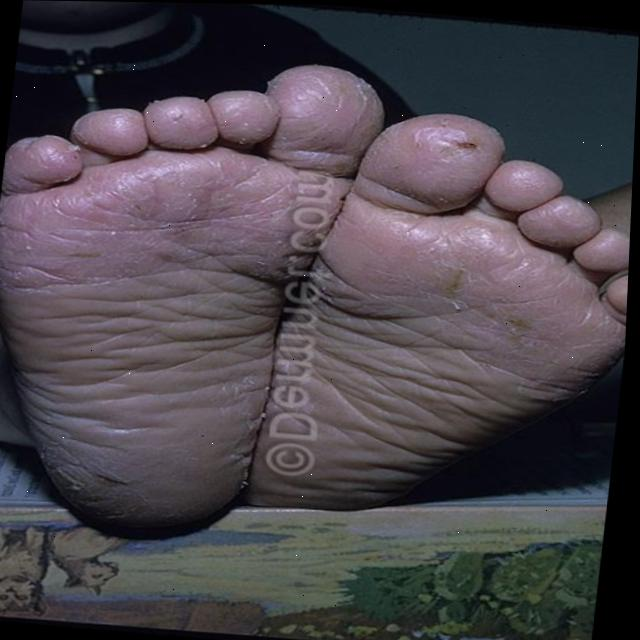Eczema: (5, 78, 346, 304), (362, 128, 571, 347), (36, 434, 195, 527)
